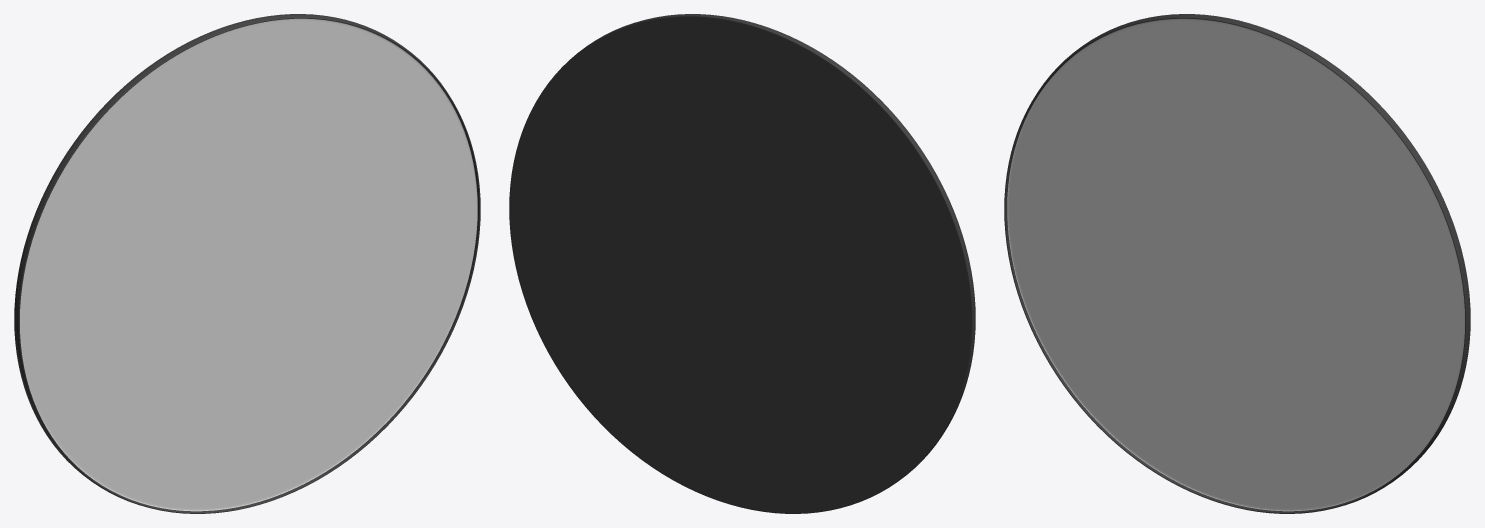
Rendered from Mirror_007.gltf.
3 renders of one model, left to right at view 1: azimuth 30°, elevation 25°; view 2: azimuth 150°, elevation 25°; view 3: azimuth 330°, elevation 25°, orthographic.
Parts seen in each view (by area): view 1: mirror_007; view 2: mirror_007; view 3: mirror_007.
Part boxes in pixels (bbox=[...]): mirror_007: bbox=[14, 14, 480, 513]; mirror_007: bbox=[509, 14, 975, 513]; mirror_007: bbox=[1004, 14, 1470, 513].
Bounding box in the file's own units: 0.596 × 0.596 × 0.00925.
1 material, 1 textured.
